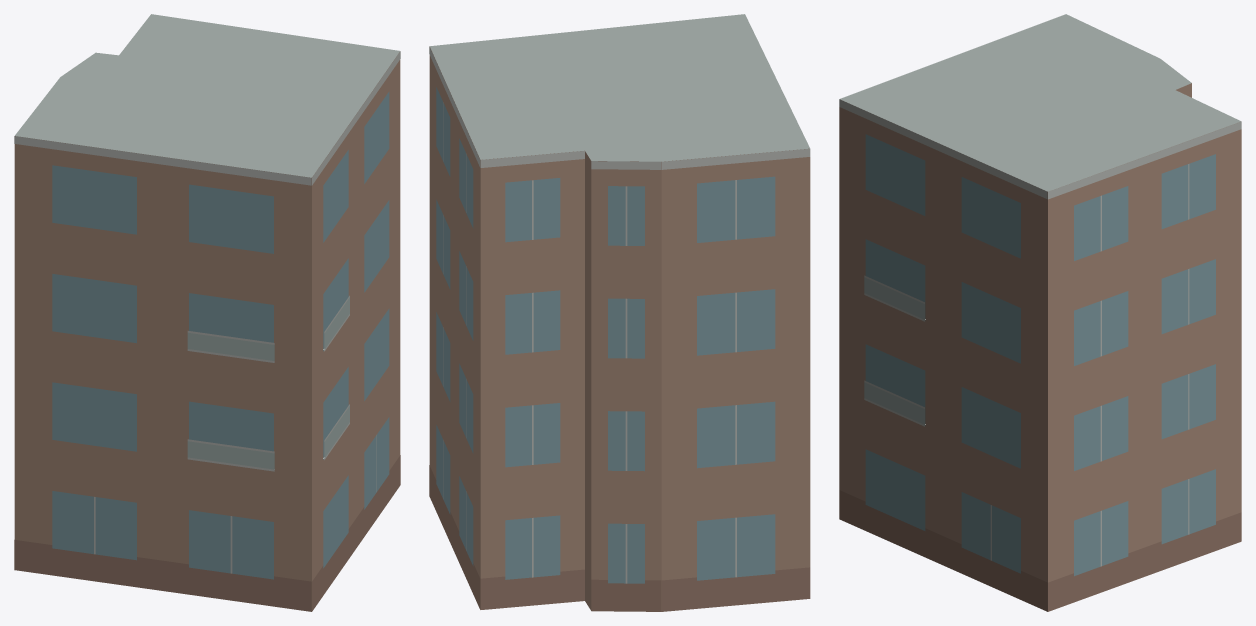
File: survey-upis-32463061.glb
3 renders of one model, left to right at view 1: azimuth 30°, elevation 25°; view 2: azimuth 150°, elevation 25°; view 3: azimuth 270°, elevation 25°, orthographic. The views are drawn at different scales.
Visible parts, largest first — view 1: survey-upis-32463061.tmp; view 2: survey-upis-32463061.tmp; view 3: survey-upis-32463061.tmp.
Part boxes in pixels (x1,y1,x2,y2): survey-upis-32463061.tmp: (14,14,400,611); survey-upis-32463061.tmp: (429,14,810,611); survey-upis-32463061.tmp: (839,14,1241,611).
Bounding box in the file's own units: 12.08 × 13.3 × 11.55.
